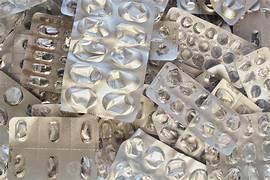pill_Strip: (61, 0, 162, 121), (146, 63, 244, 154), (166, 8, 255, 87), (8, 116, 98, 178), (95, 96, 155, 178), (109, 129, 206, 179), (0, 0, 59, 81), (96, 96, 155, 177), (206, 113, 269, 178), (21, 13, 71, 92), (146, 63, 192, 127), (9, 115, 98, 148), (150, 21, 202, 77), (7, 148, 97, 179), (152, 108, 204, 161), (94, 118, 136, 178), (96, 119, 134, 178), (98, 96, 155, 134), (0, 71, 40, 124), (208, 73, 260, 113), (236, 47, 269, 110), (0, 13, 27, 81), (150, 19, 187, 66), (211, 79, 261, 113), (1, 30, 29, 81), (1, 30, 28, 81), (233, 10, 269, 46), (145, 60, 201, 83), (152, 107, 185, 145), (98, 119, 135, 151), (150, 20, 179, 60), (210, 0, 257, 24), (149, 23, 178, 60), (175, 128, 205, 163), (149, 24, 178, 60), (0, 13, 23, 55), (132, 95, 156, 135), (195, 64, 229, 91), (32, 104, 90, 118), (0, 0, 45, 17), (0, 51, 23, 81), (31, 104, 87, 116), (195, 64, 229, 82), (31, 104, 81, 116), (150, 39, 178, 60), (195, 71, 221, 91), (177, 0, 214, 14), (144, 60, 165, 84), (173, 61, 201, 77), (0, 125, 8, 179), (33, 89, 60, 102), (177, 0, 202, 13), (153, 0, 169, 20), (61, 0, 77, 16), (0, 125, 8, 146), (165, 0, 176, 12), (249, 0, 261, 11), (259, 0, 269, 11)
